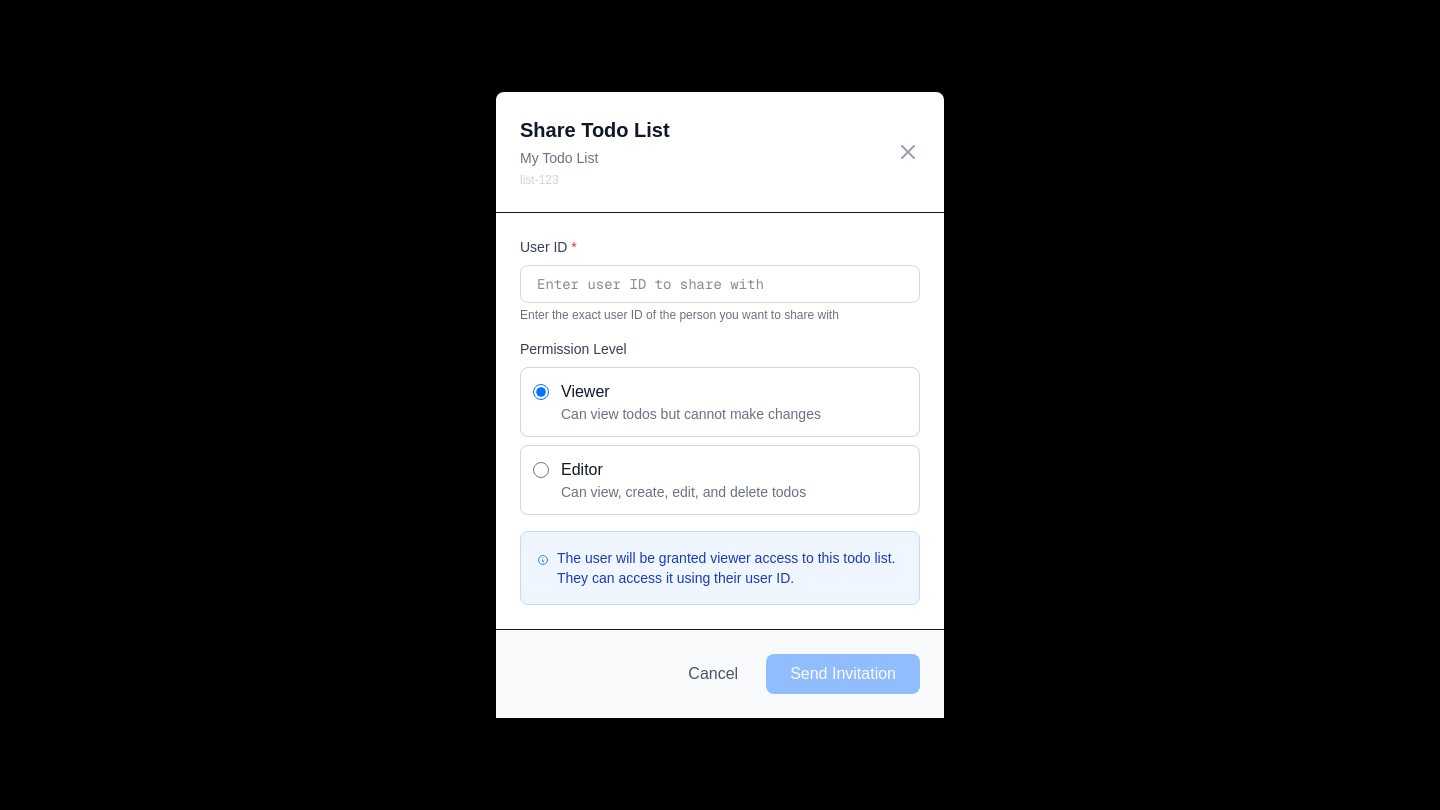
Test: ShareModal › Form Interactions › should update info message when role changes to editor
Click the radio button labelled "Editor Can view, create, edit, and delete todos" at (541, 470), box [533,462,549,478]
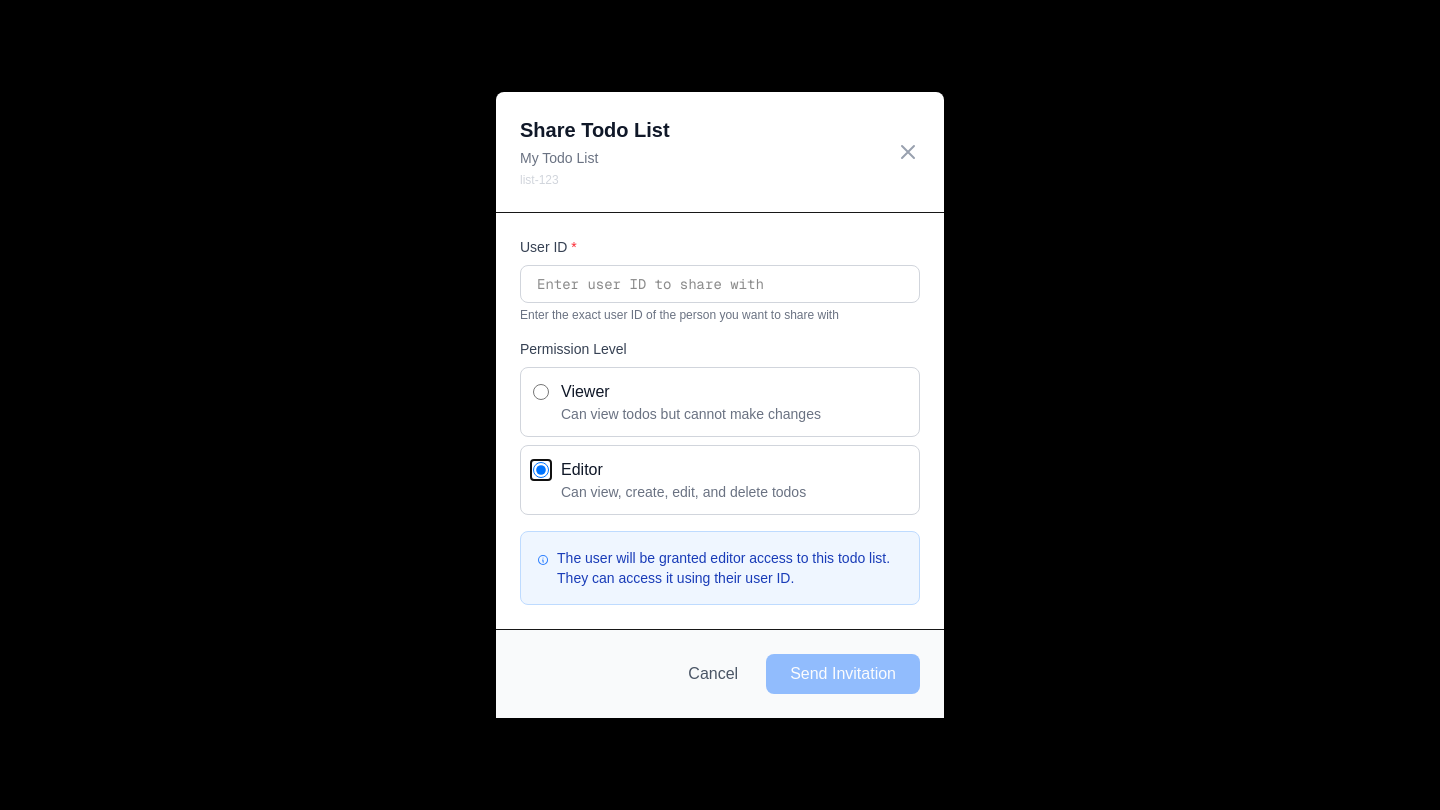
expect the text "The user will be granted editor access" is shown: met, box [557,548,903,588]
